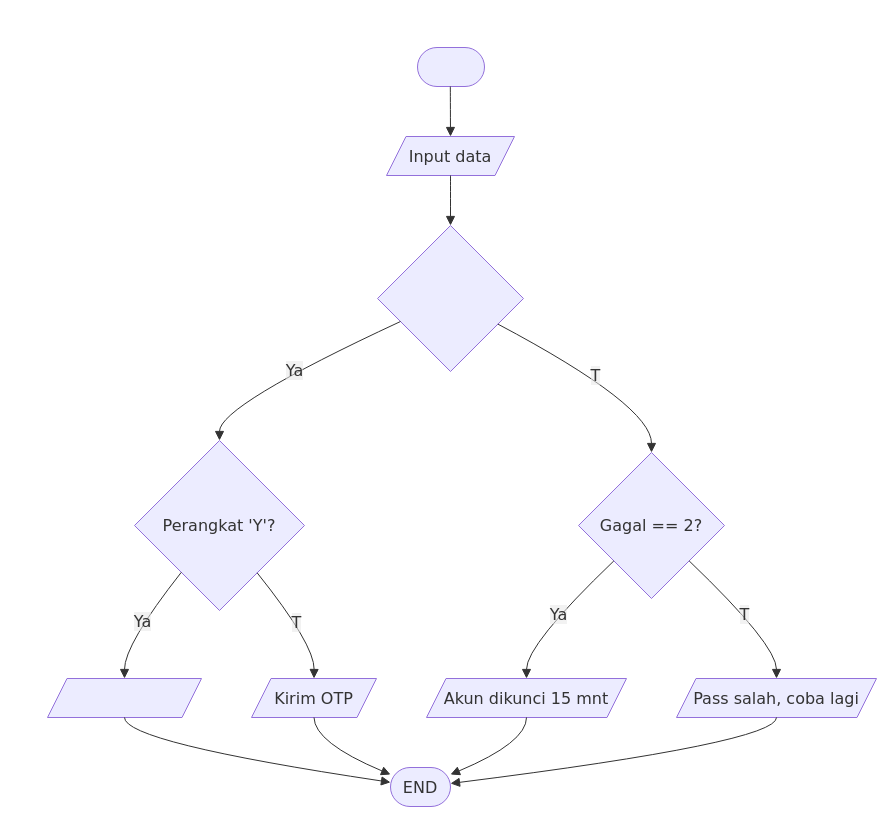
The diagram is 894 pixels wide and 824 high, and some of its shapes have lost their labels. The centre of each missing label's shape, as x and y in pixels:
Login berhasil: point 124,698
Pass benar?: point 450,298
START: point 450,66
